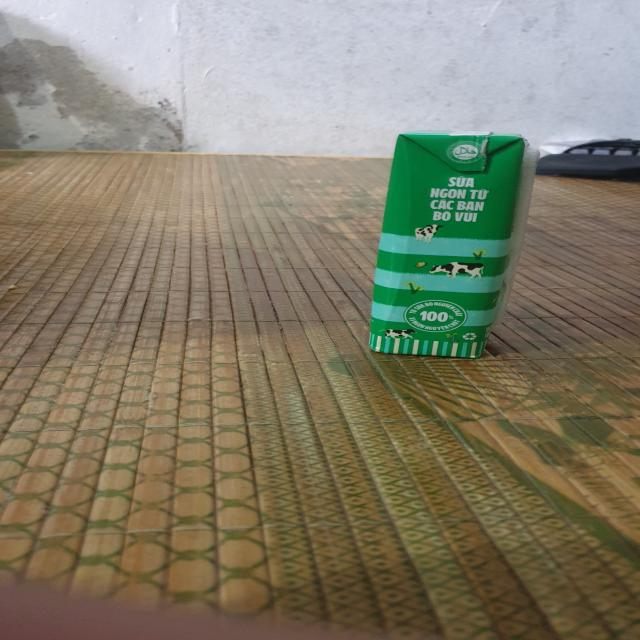Vina: (354, 135, 543, 362)
